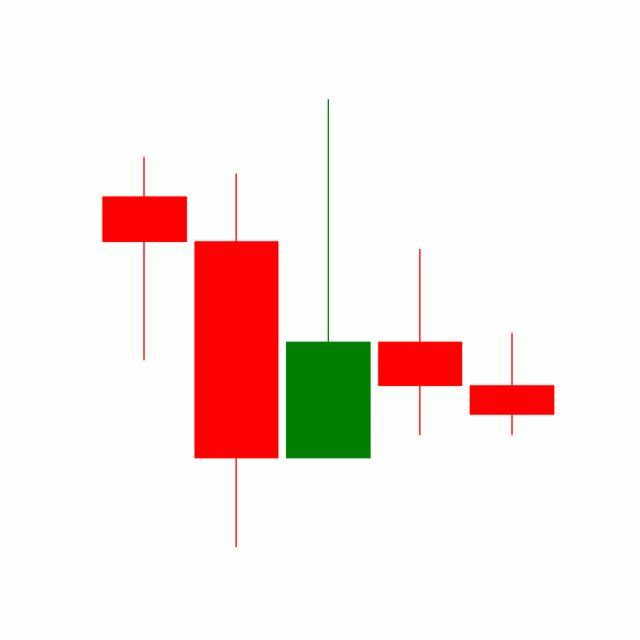Spinning Top: (374, 247, 468, 438)
